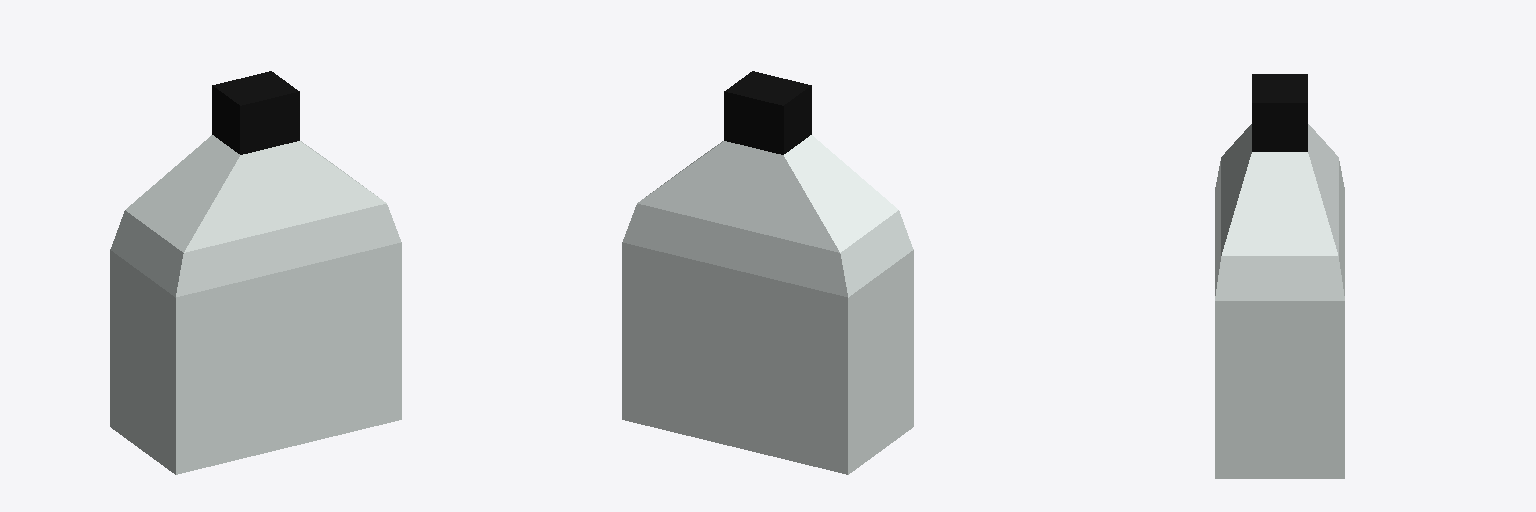
Rendered from Holy Water.obj.
3 views of the same model, side by side, from view 1: azimuth 30°, elevation 25°; view 2: azimuth 150°, elevation 25°; view 3: azimuth 270°, elevation 25° (orthographic).
Parts seen in each view (by area): view 1: group[number redacted]; view 2: group[number redacted]; view 3: group[number redacted].
Part boxes in pixels (left/top/right/bottom): group[number redacted]: left=110, top=71, right=401, bottom=474; group[number redacted]: left=622, top=71, right=913, bottom=474; group[number redacted]: left=1215, top=74, right=1344, bottom=478.
Bounding box in the file's own units: 0.2471 × 0.35 × 0.1235.